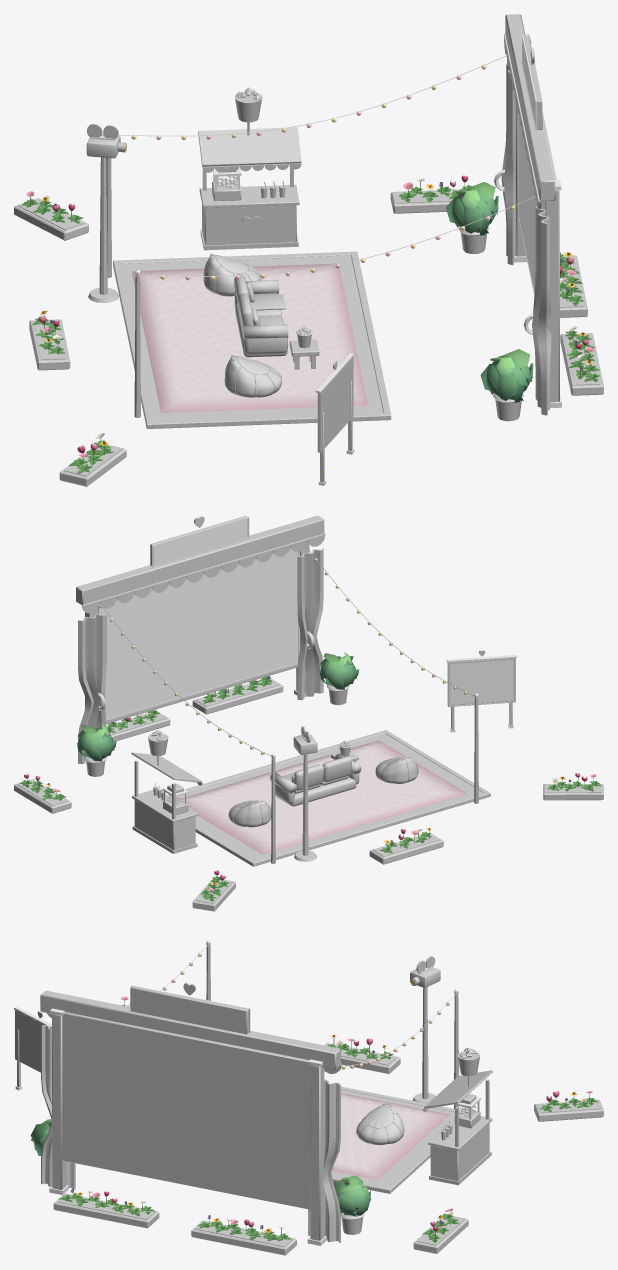
Rendered from zon_cinema.glb.
3 views of the same model, one above another, from view 1: azimuth 30°, elevation 25°; view 2: azimuth 150°, elevation 25°; view 3: azimuth 270°, elevation 25° (orthographic). The views are drawn at different scales.
Parts seen in each view (by area): view 1: SM_zon_cinema_kit_cinema_x0_z0, SM_zon_cinema_room_rug_fabric_x0_z0, SM_zon_cinema_vc_palette_x0_z0, SM_zon_cinema_veg_leaf_clip_x1_z0, SM_zon_cinema_kit_cinema_gloss_x0_z0, HIT_bld_cinema_watchlist_sign__0, SCREEN_bld_cinema_screen_film__0, SM_zon_cinema_glow_vc_x0_z0; view 2: SM_zon_cinema_kit_cinema_x0_z0, SCREEN_bld_cinema_screen_film__0, SM_zon_cinema_room_rug_fabric_x0_z0, SM_zon_cinema_vc_palette_x0_z0, SCREEN_bld_cinema_watchlist_face__0, SM_zon_cinema_kit_cinema_gloss_x0_z0, SM_zon_cinema_veg_leaf_clip_x1_z0, SCREEN_bld_cinema_screen_marquee__0, HIT_bld_cinema_watchlist_sign__0; view 3: SM_zon_cinema_kit_cinema_x0_z0, SM_zon_cinema_room_rug_fabric_x0_z0, SM_zon_cinema_vc_palette_x0_z0, SM_zon_cinema_veg_leaf_clip_x1_z0, HIT_bld_cinema_watchlist_sign__0, SM_zon_cinema_kit_cinema_gloss_x0_z0.
Boxes of the visible parts, x1,y1,x2,y2 form: SM_zon_cinema_kit_cinema_x0_z0: (14, 14, 603, 486); SM_zon_cinema_room_rug_fabric_x0_z0: (131, 263, 367, 412); SM_zon_cinema_vc_palette_x0_z0: (21, 175, 600, 473); SM_zon_cinema_veg_leaf_clip_x1_z0: (446, 182, 533, 402); SM_zon_cinema_kit_cinema_gloss_x0_z0: (92, 33, 561, 485); HIT_bld_cinema_watchlist_sign__0: (318, 357, 353, 452); SCREEN_bld_cinema_screen_film__0: (518, 114, 544, 292); SM_zon_cinema_glow_vc_x0_z0: (124, 65, 536, 280); SM_zon_cinema_kit_cinema_x0_z0: (14, 515, 603, 911); SCREEN_bld_cinema_screen_film__0: (100, 547, 297, 718); SM_zon_cinema_room_rug_fabric_x0_z0: (181, 740, 467, 854); SM_zon_cinema_vc_palette_x0_z0: (19, 676, 601, 901); SCREEN_bld_cinema_watchlist_face__0: (450, 659, 513, 704); SM_zon_cinema_kit_cinema_gloss_x0_z0: (82, 516, 517, 803); SM_zon_cinema_veg_leaf_clip_x1_z0: (77, 652, 359, 761); SCREEN_bld_cinema_screen_marquee__0: (154, 519, 247, 565); HIT_bld_cinema_watchlist_sign__0: (447, 658, 515, 706); SM_zon_cinema_kit_cinema_x0_z0: (17, 944, 603, 1255); SM_zon_cinema_room_rug_fabric_x0_z0: (331, 1093, 449, 1179); SM_zon_cinema_vc_palette_x0_z0: (59, 996, 597, 1242); SM_zon_cinema_veg_leaf_clip_x1_z0: (30, 1119, 370, 1216); HIT_bld_cinema_watchlist_sign__0: (15, 1010, 43, 1072); SM_zon_cinema_kit_cinema_gloss_x0_z0: (14, 940, 480, 1245).
Bounding box in the file's own units: 21.35 × 9.5 × 21.75.
